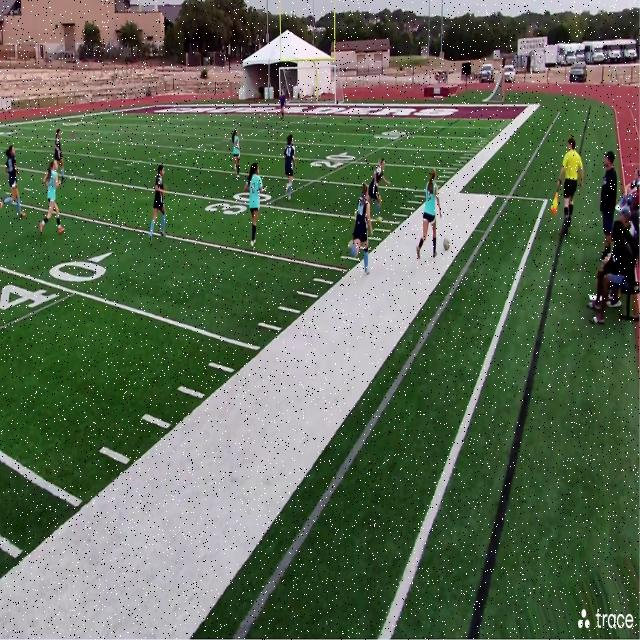Ball: (443, 236, 451, 258)
GoalKeeper: (278, 88, 286, 122)
TEAM 1: (348, 182, 372, 280), (145, 158, 171, 248), (4, 144, 30, 220), (369, 153, 389, 226), (282, 131, 296, 192), (50, 128, 65, 163)
TEAM 2: (418, 167, 440, 269), (40, 158, 66, 240), (244, 159, 266, 255), (230, 123, 245, 181)
